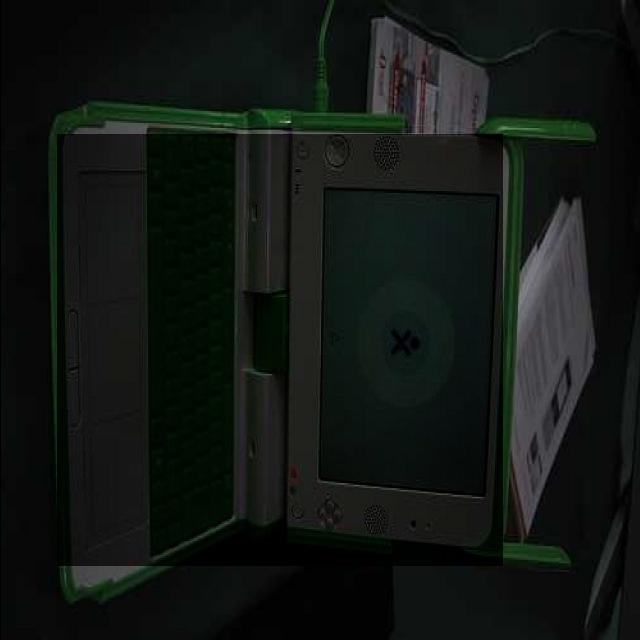-keyboard-: (57, 134, 503, 566)
